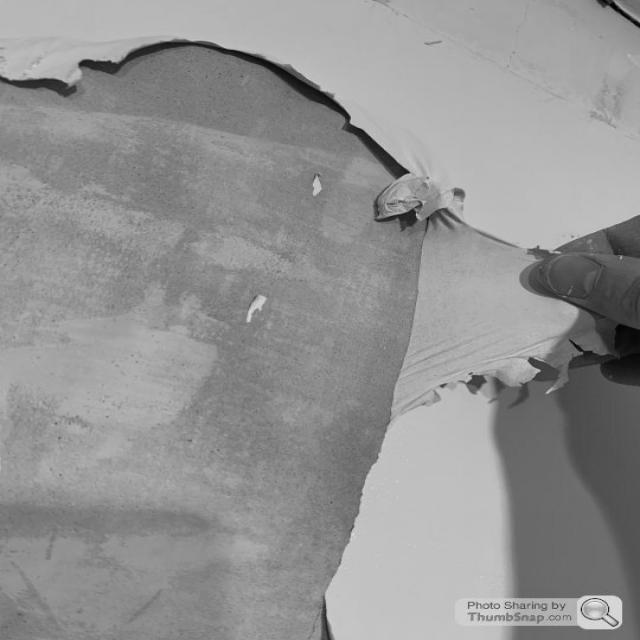peeling paint: (0, 32, 630, 640)
